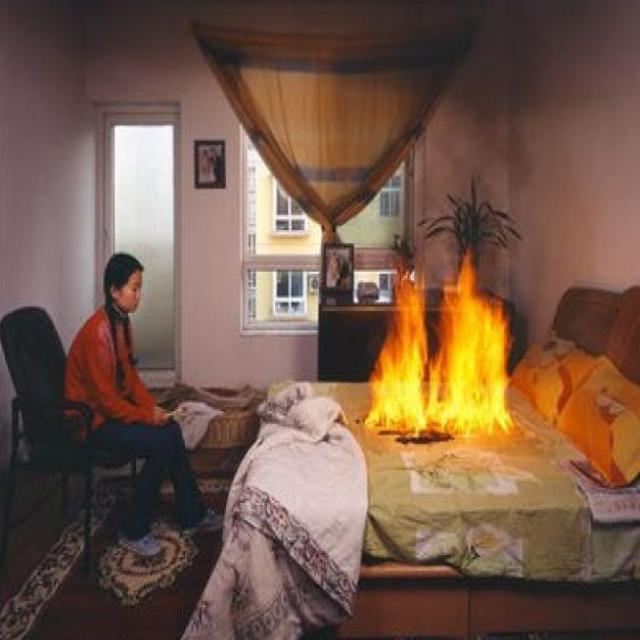fire: (351, 0, 640, 237)
smoke: (362, 246, 520, 444)
